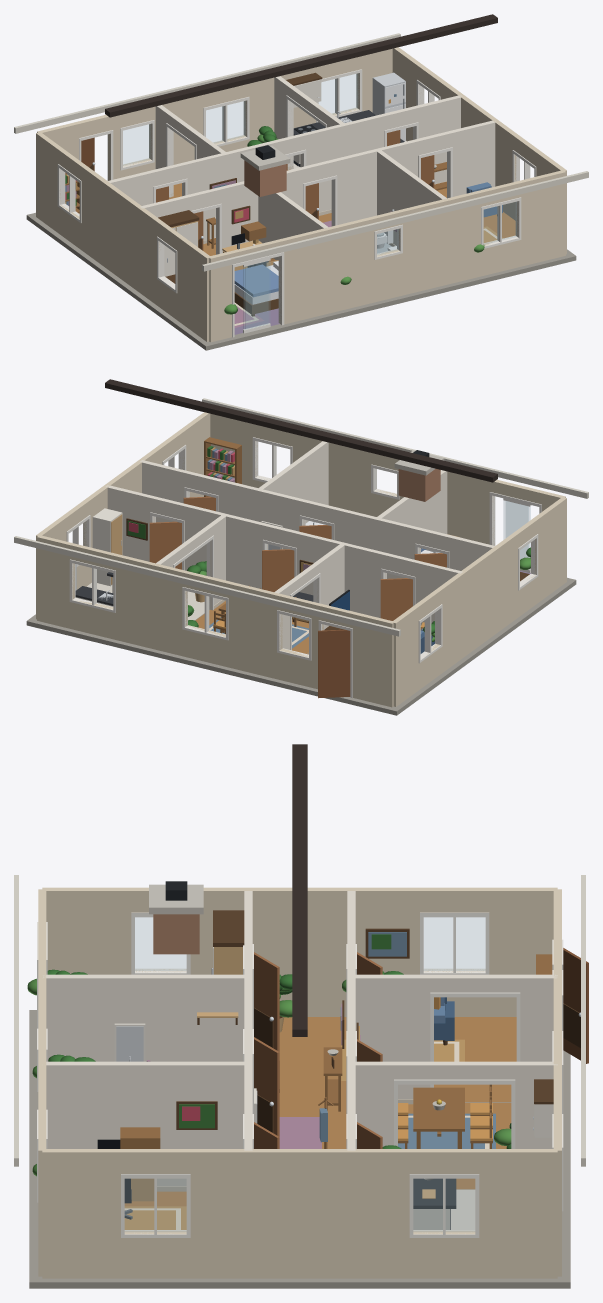
3 renders of one model, top to bottom at view 1: azimuth 30°, elevation 25°; view 2: azimuth 150°, elevation 25°; view 3: azimuth 270°, elevation 25°, orthographic. The views are drawn at different scales.
Visible parts, largest first — view 1: house; view 2: house; view 3: house.
Part boxes in pixels (x1=…): house: x1=14, y1=14, x2=588, y2=350; house: x1=14, y1=379, x2=588, y2=715; house: x1=14, y1=744, x2=588, y2=1288.
Size of what is drawn, in the model's own units: 13.1 by 5.69 by 11.16.
